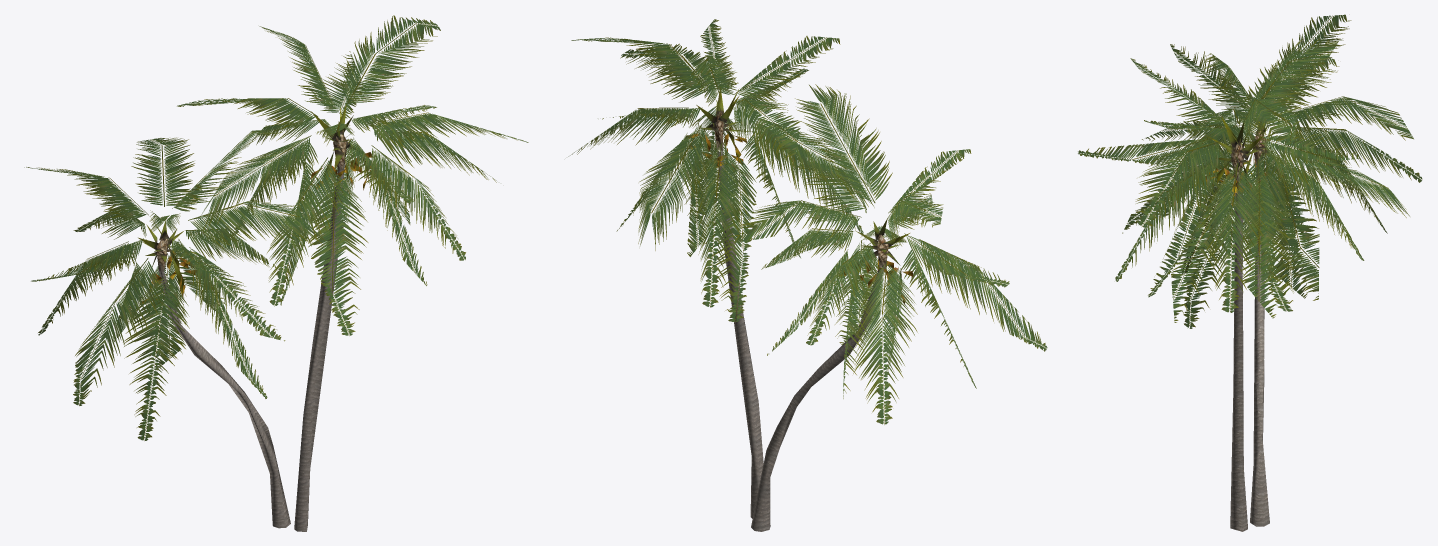
Rendered from palm-0-far.glb.
3 views of the same model, side by side, from view 1: azimuth 30°, elevation 25°; view 2: azimuth 150°, elevation 25°; view 3: azimuth 270°, elevation 25° (orthographic). The views are drawn at different scales.
Parts seen in each view (by area): view 1: Tree_2_Tree_2Mat_0, Tree_0_Tree_0Mat_0, Tree_3_Tree_3Mat_0, Tree_4_Tree_4Mat_0; view 2: Tree_2_Tree_2Mat_0, Tree_0_Tree_0Mat_0, Tree_3_Tree_3Mat_0, Tree_4_Tree_4Mat_0; view 3: Tree_2_Tree_2Mat_0, Tree_0_Tree_0Mat_0, Tree_3_Tree_3Mat_0, Tree_1_Tree_1Mat_0.
Boxes of the visible parts, bbox=[...] form: Tree_2_Tree_2Mat_0: bbox=[24, 15, 528, 440]; Tree_0_Tree_0Mat_0: bbox=[159, 169, 344, 531]; Tree_3_Tree_3Mat_0: bbox=[138, 104, 368, 301]; Tree_4_Tree_4Mat_0: bbox=[142, 152, 374, 303]; Tree_2_Tree_2Mat_0: bbox=[568, 19, 1047, 424]; Tree_0_Tree_0Mat_0: bbox=[717, 150, 883, 531]; Tree_3_Tree_3Mat_0: bbox=[696, 87, 909, 288]; Tree_4_Tree_4Mat_0: bbox=[685, 126, 913, 304]; Tree_2_Tree_2Mat_0: bbox=[1078, 14, 1422, 328]; Tree_0_Tree_0Mat_0: bbox=[1230, 167, 1269, 531]; Tree_3_Tree_3Mat_0: bbox=[1206, 110, 1277, 198]; Tree_1_Tree_1Mat_0: bbox=[1231, 131, 1267, 182].
Bounding box in the file's own units: 10.02 × 9.94 × 6.34.
5 materials, 5 textured.
